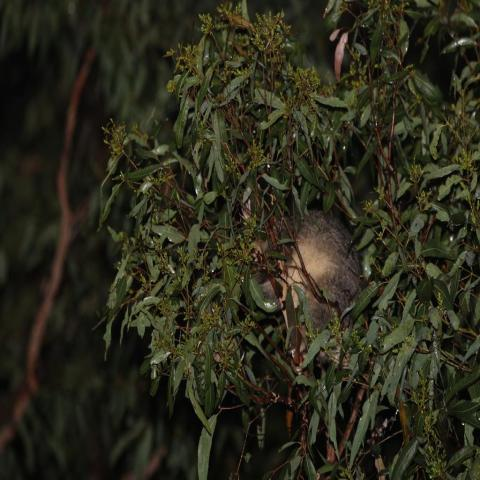small_animal: (240, 200, 365, 368)
